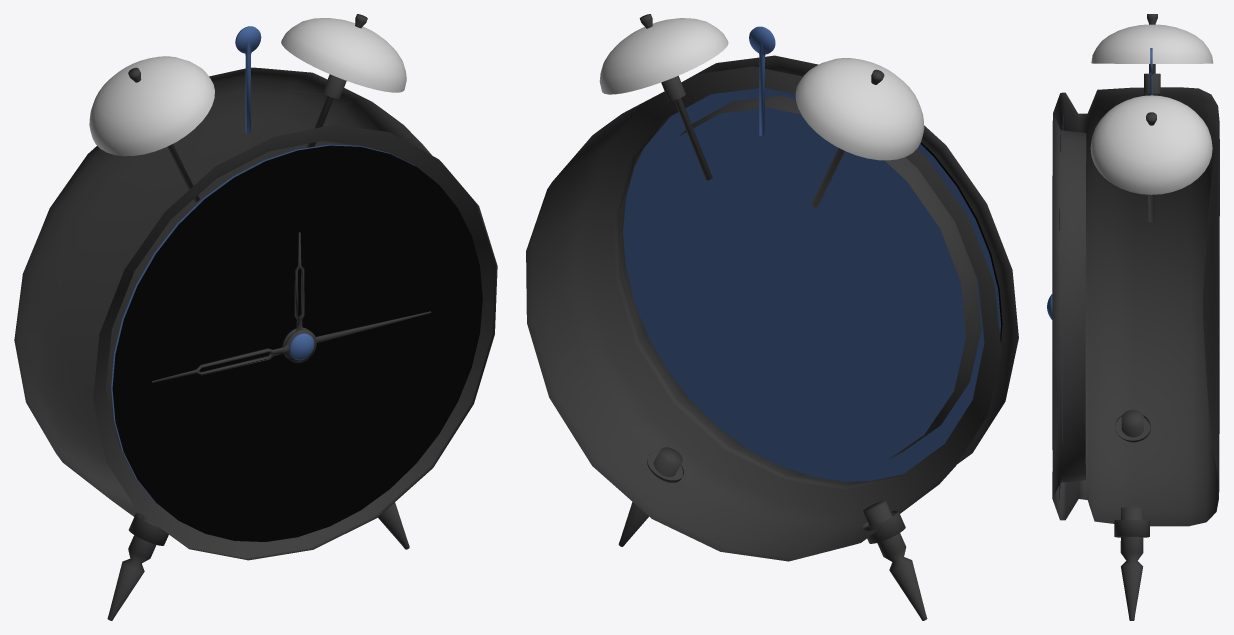
Rendered from Alarm Clock v1.fbx.
3 renders of one model, left to right at view 1: azimuth 30°, elevation 25°; view 2: azimuth 150°, elevation 25°; view 3: azimuth 270°, elevation 25°, orthographic. The views are drawn at different scales.
Visible parts, largest first — view 1: Clock; view 2: Clock; view 3: Clock.
Boxes of the visible parts, left/top/right/bottom form: Clock: left=14, top=14, right=497, bottom=620; Clock: left=526, top=14, right=1018, bottom=620; Clock: left=1047, top=14, right=1219, bottom=620.
Size of the model in its own units: 12.16 by 15.53 by 4.81.
Materials: 4 (1 with a texture image).
